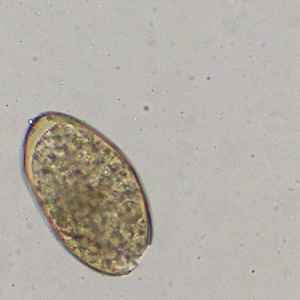Fasciola_hepatica_egg: (19, 110, 154, 278)
